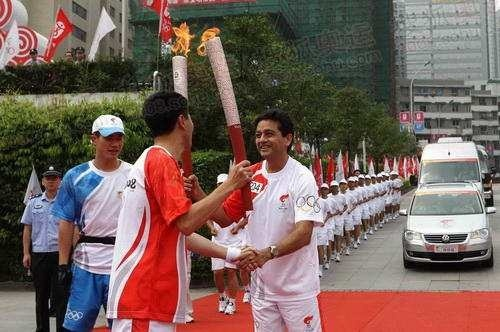fire: (171, 19, 192, 55), (197, 22, 217, 54)
